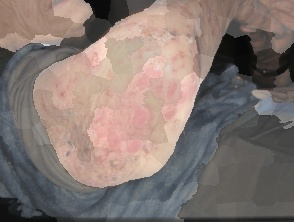SJS-TEN: (5, 0, 294, 221)
